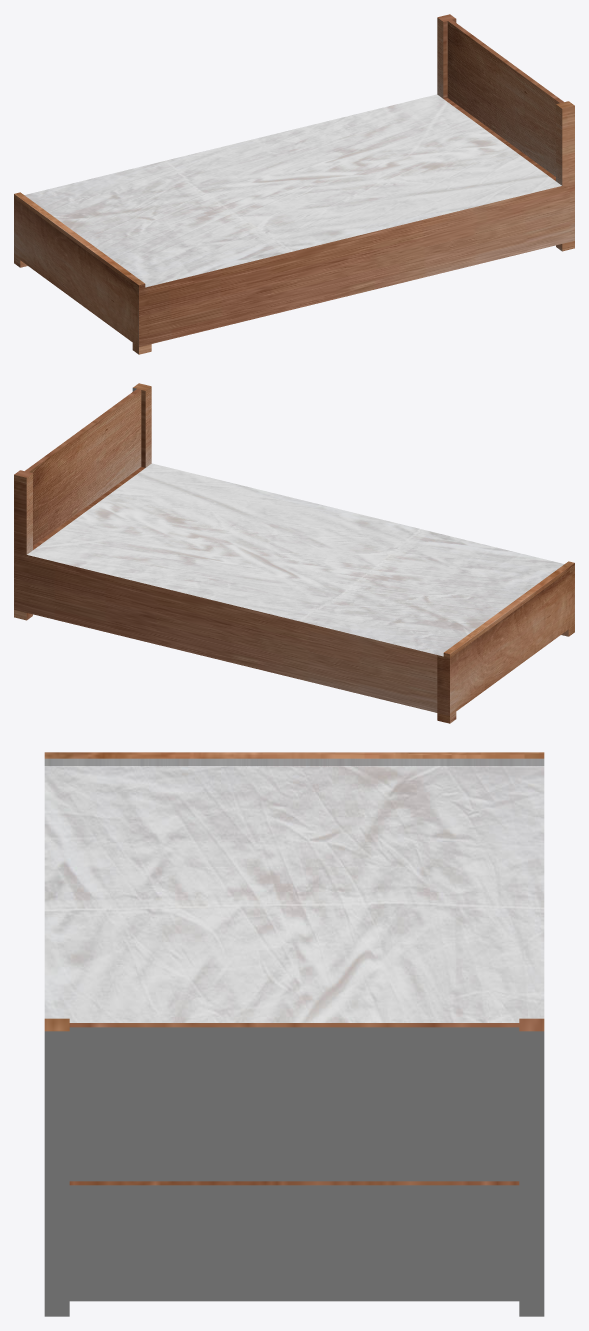
Rendered from bed.obj.
3 views of the same model, one above another, from view 1: azimuth 30°, elevation 25°; view 2: azimuth 150°, elevation 25°; view 3: azimuth 270°, elevation 25° (orthographic). The views are drawn at different scales.
Visible parts, largest first — view 1: Cube; view 2: Cube; view 3: Cube.
Part boxes in pixels (<box>): Cube: <box>14,14,574,354</box>; Cube: <box>14,383,574,723</box>; Cube: <box>44,752,544,1316</box>.
Size of the model in its own units: 5.36 by 1.68 by 2.66.
Materials: 3 (2 with a texture image).
